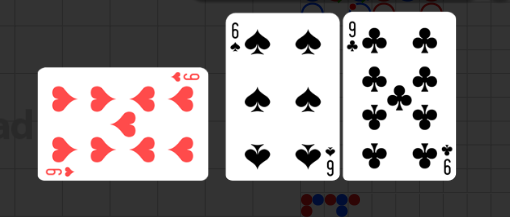9C: (439, 141, 453, 175)
9H: (168, 70, 200, 83), (44, 164, 75, 176)
